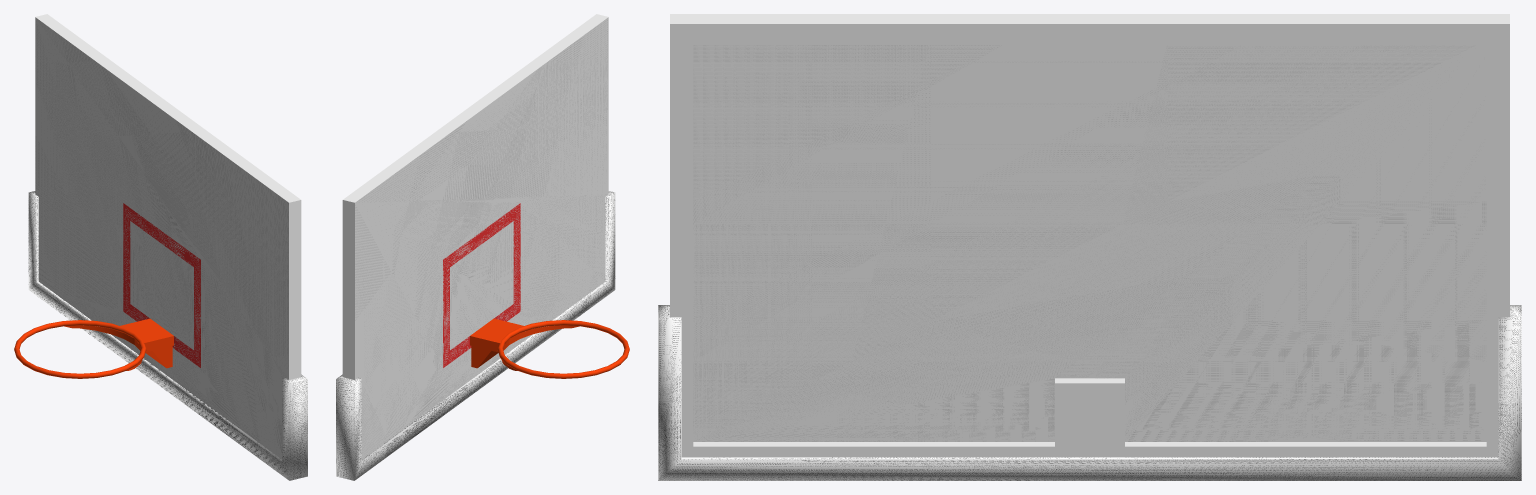
3 views of the same model, side by side, from view 1: azimuth 30°, elevation 25°; view 2: azimuth 150°, elevation 25°; view 3: azimuth 270°, elevation 25° (orthographic). The views are drawn at different scales.
Parts seen in each view (by area): view 1: group_0 (×5), net, basket_hoop, basket; view 2: group_0 (×5), net, basket_hoop, basket; view 3: group_0 (×4).
Part boxes in pixels (x1,y1,x2,y2): group_0 (×5): (28, 14, 307, 480); net: (14, 320, 146, 378); basket_hoop: (120, 318, 173, 368); basket: (64, 325, 142, 370); group_0 (×5): (336, 14, 615, 480); net: (497, 320, 629, 378); basket_hoop: (470, 318, 523, 368); basket: (501, 325, 579, 370); group_0 (×4): (658, 14, 1521, 480).
Bounding box in the file's own units: 25.28 × 74 × 43.
